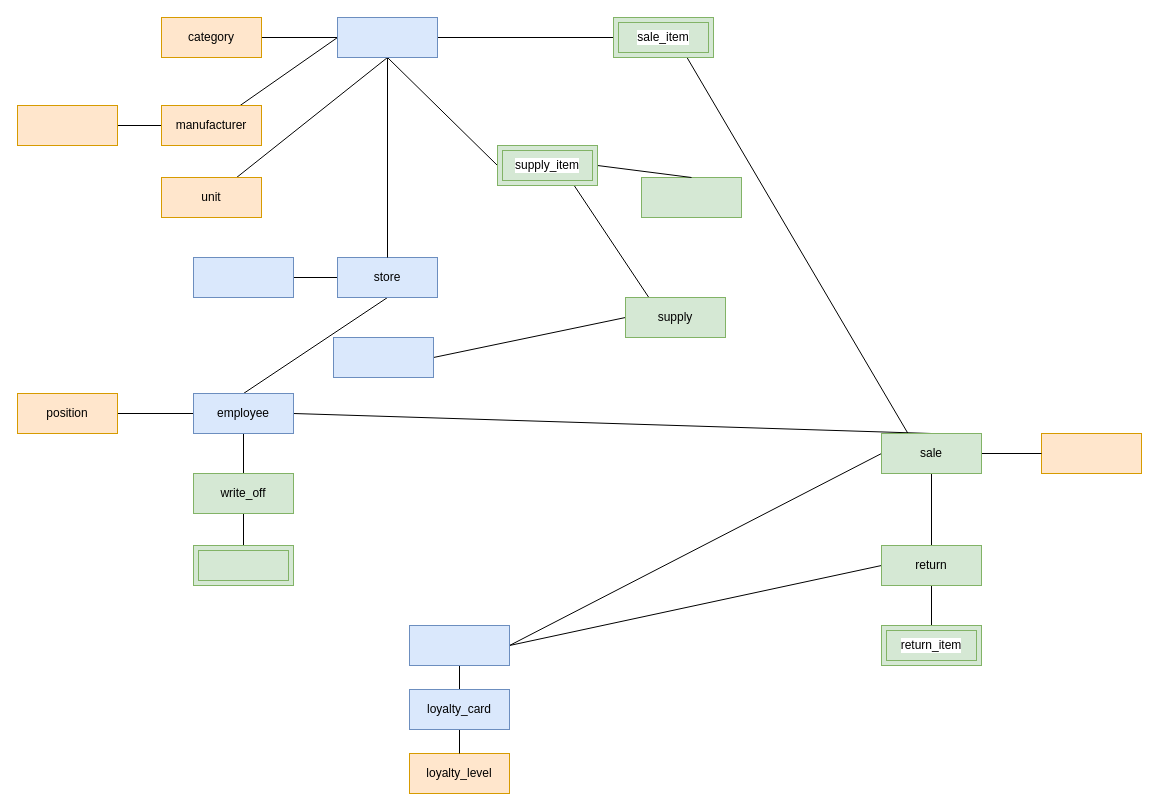
Some shapes in this 1159 by 811 pixel diagram are drawn without their labels. The shapes that lost their labels are listed below. From the top down, each one's centre as x and y in pixels, then its label:
the point at 387,37: product
the point at 67,125: country
the point at 691,197: stock
the point at 243,277: inventory
the point at 383,357: supplier
the point at 1091,453: paymant_type
the point at 243,565: write_off_item
the point at 459,645: client
